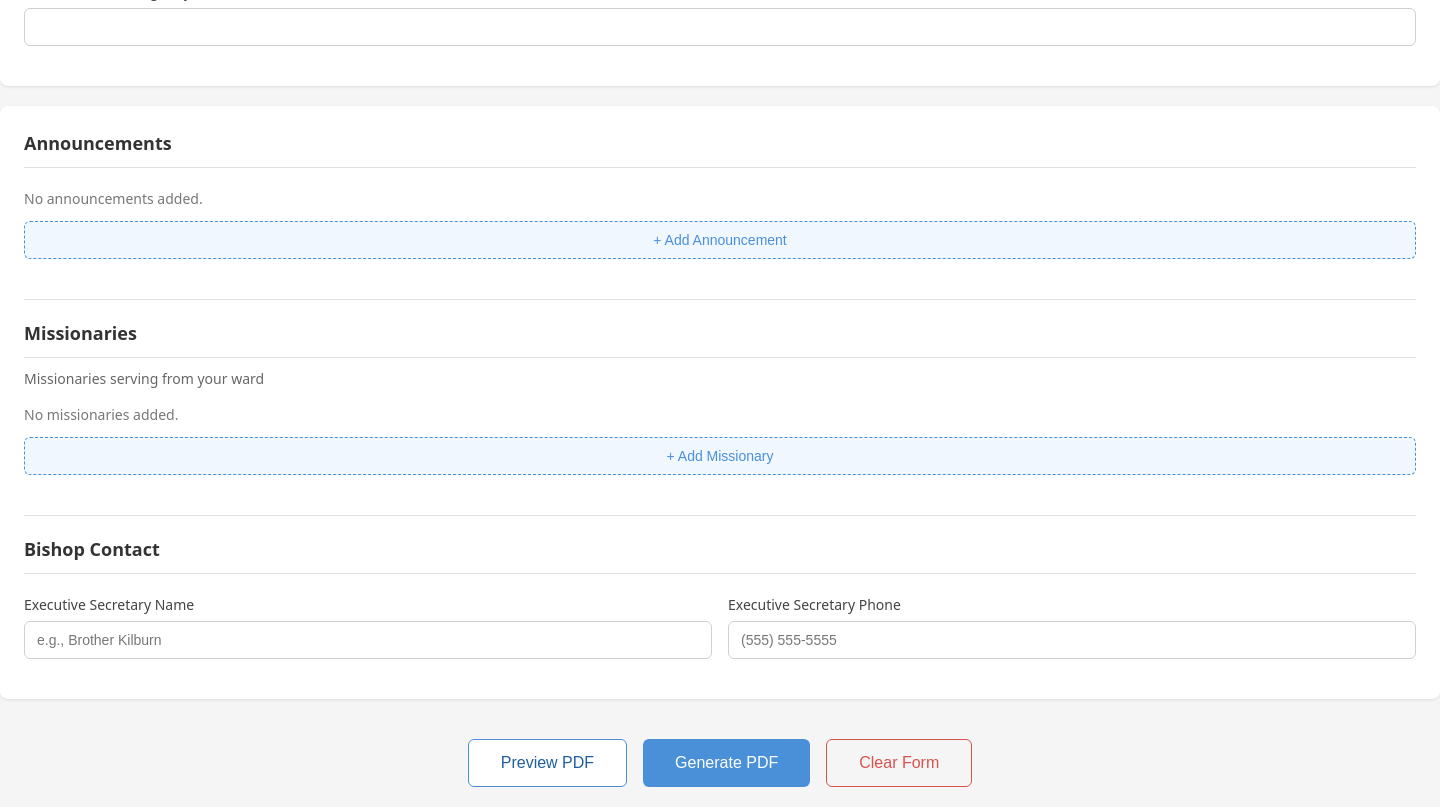
Test: ProgramForm › shows loading state while a PDF is being generated
(page scrolled)
Step 1. Click the button "Generate PDF" → (727, 763), box [643, 739, 810, 787]
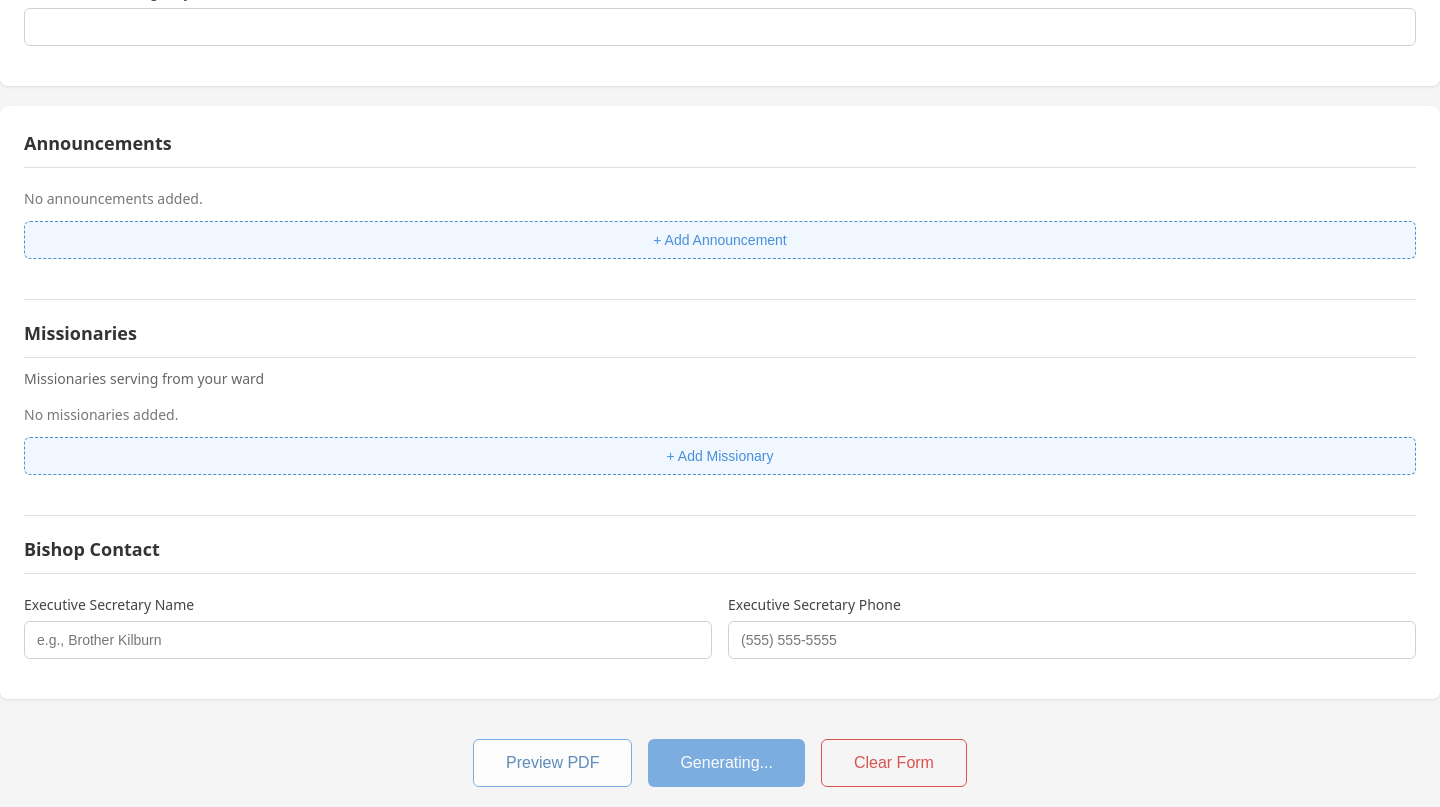
Expected: the text "Generating..." is shown, [648, 739, 805, 787]
